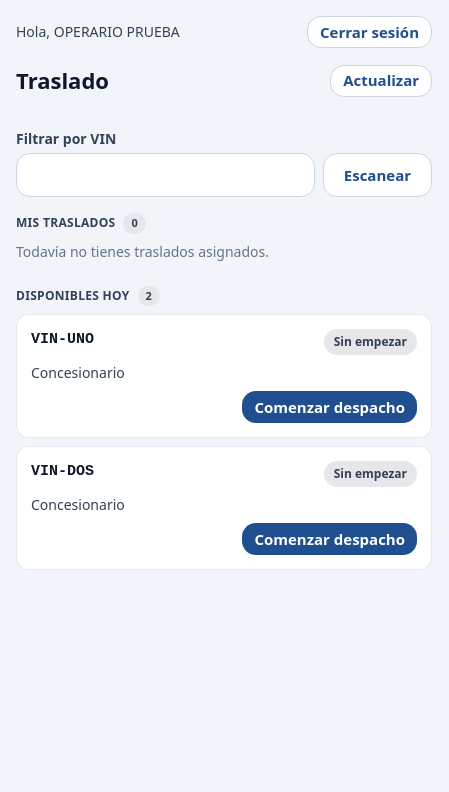
Test case: AC4 · tomar sin señal › queda en «Mis traslados» con el aviso en la tarjeta y un mensaje en ámbar
The width and height of the screenshot is (449, 792).
Expected: the text "VIN-UNO" is shown, [31,329,94,352]
Click the button with aria-label "Comenzar despacho VIN-UNO" at point(330, 407), box [242,391,417,423]
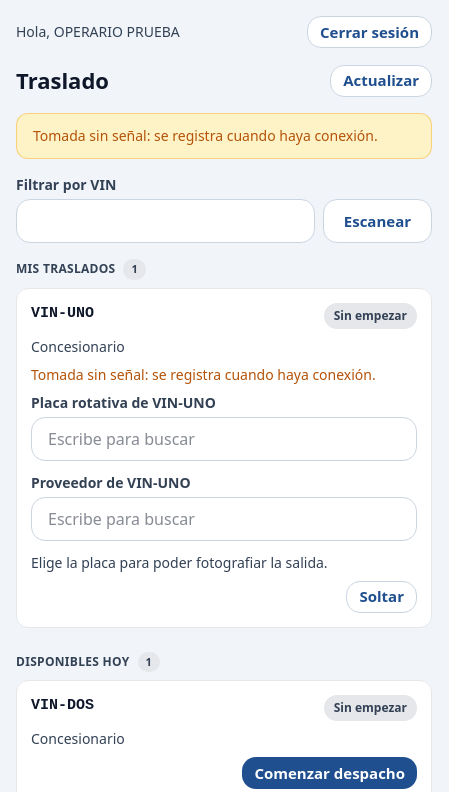
Expected: the text "Tomada sin señal: se registra cuando haya conexión." is shown, [31,364,417,384]
